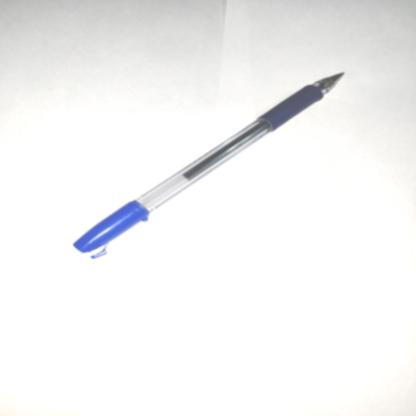Pen: (25, 49, 353, 274)
